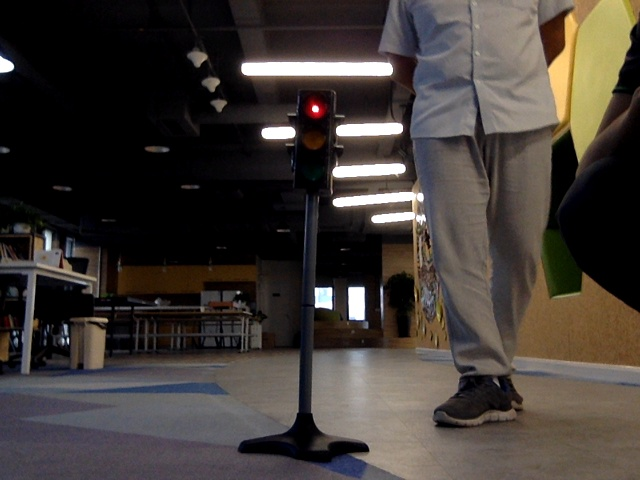red: (300, 91, 327, 188)
